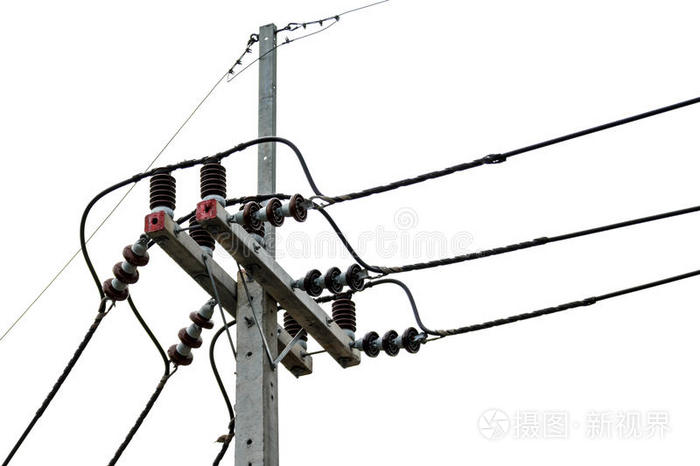insulator: (101, 242, 151, 303), (242, 192, 308, 233), (167, 311, 213, 366), (305, 262, 367, 297), (361, 325, 420, 359)
